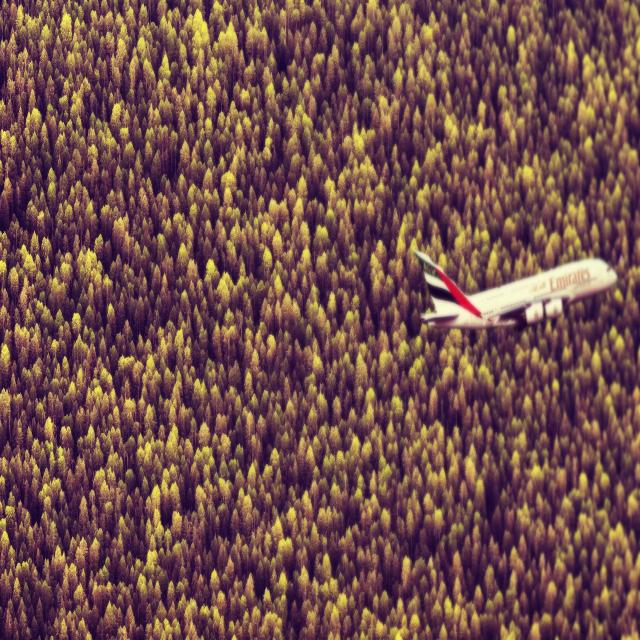airplane: (414, 248, 617, 332)
